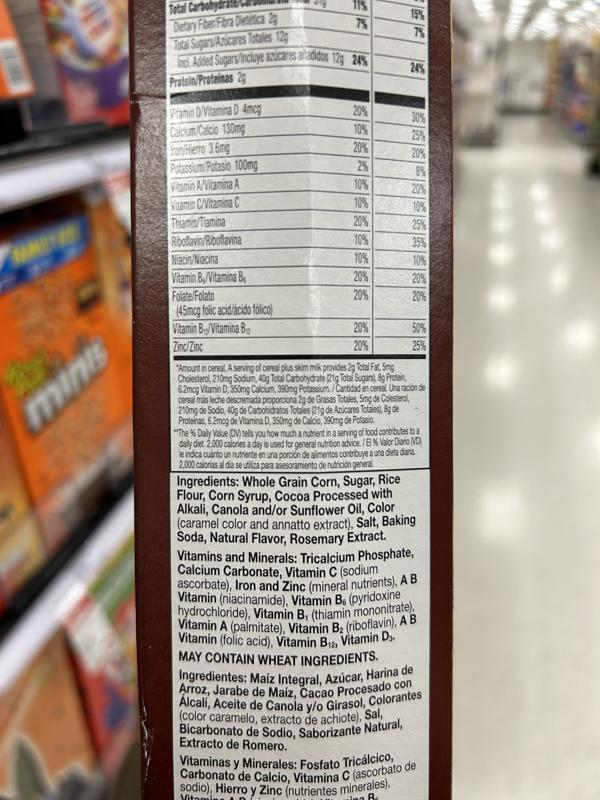ingredients: (176, 472, 419, 547)
